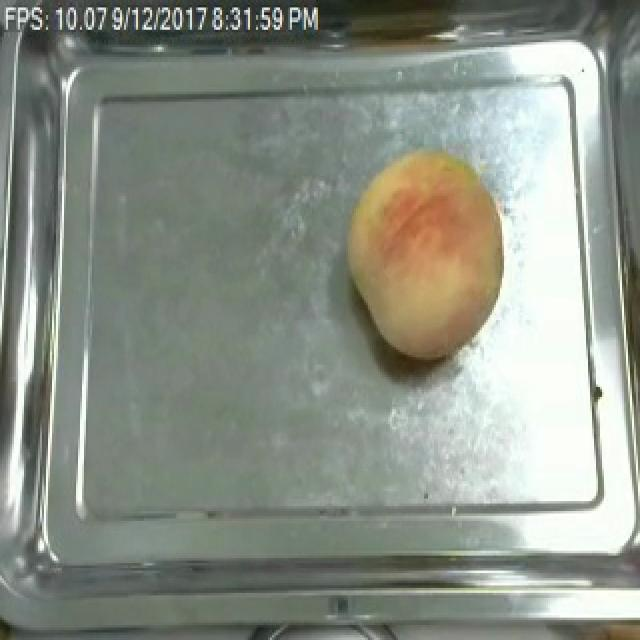Fruit: (334, 142, 514, 367)
